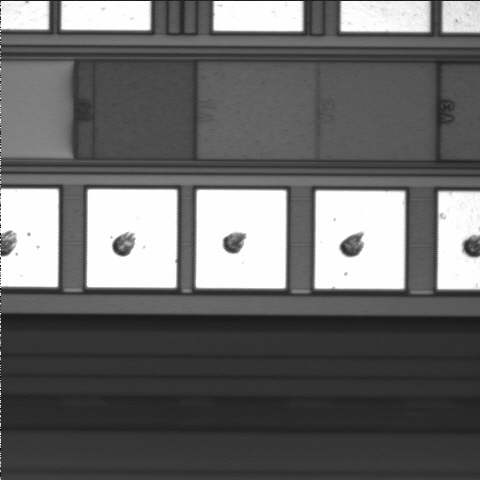pad: (87, 189, 177, 288), (196, 190, 286, 288), (315, 191, 405, 289)
